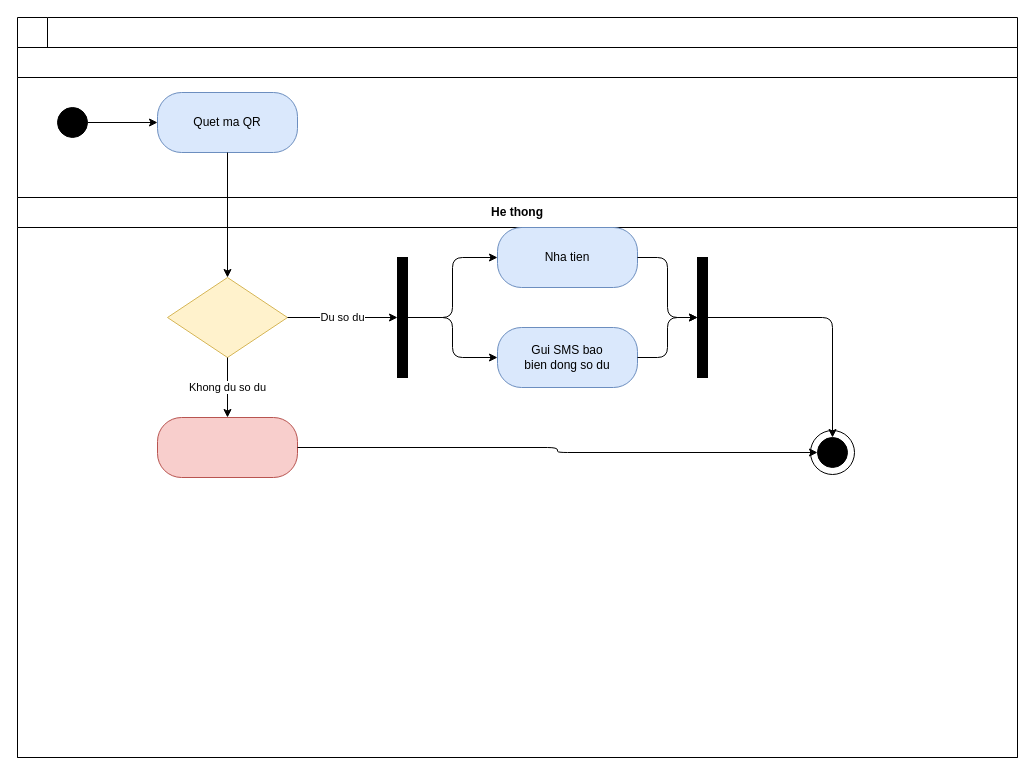
This 1035x775 diagram has some shape labels left out. Each missing label, with the box of its shape:
Hien thi loi: (156, 416, 298, 478)
Khach hang: (16, 46, 1018, 198)
Kiem tra so du: (166, 276, 288, 358)
